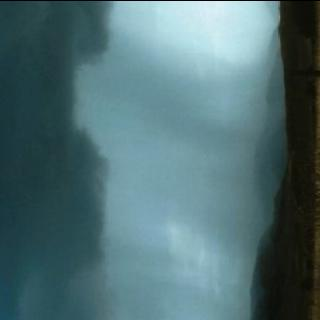Nimbostratus: (0, 0, 135, 320)
